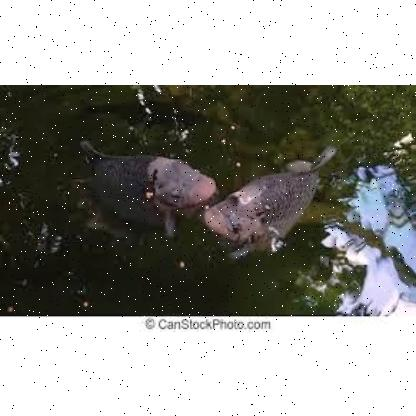gurame: (204, 152, 331, 252), (75, 139, 209, 225)
